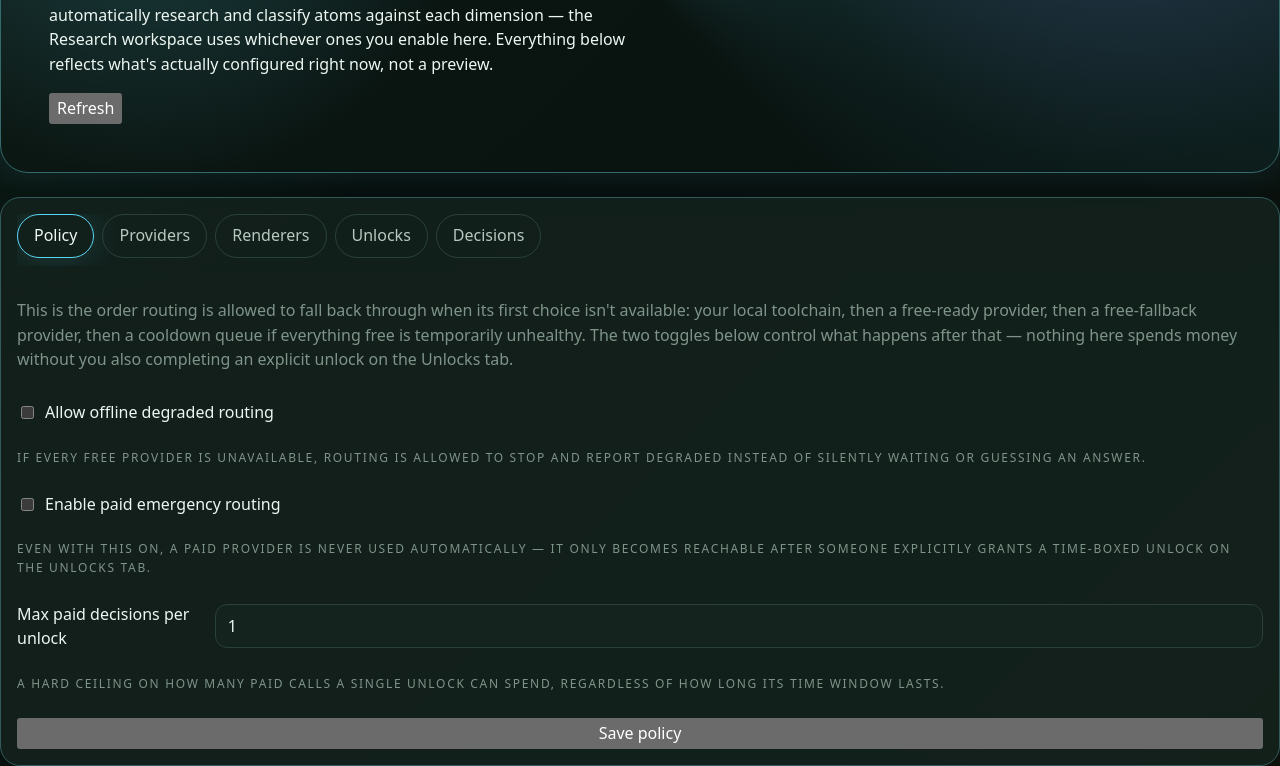
RoutingWorkspace › saves the routing policy with the loaded ETag and shows a conflict on stale write, without optimistic overwrite
(page scrolled)
Click the button "Save policy" at {"x": 640, "y": 733}, box [17,718,1263,749]
(page scrolled)
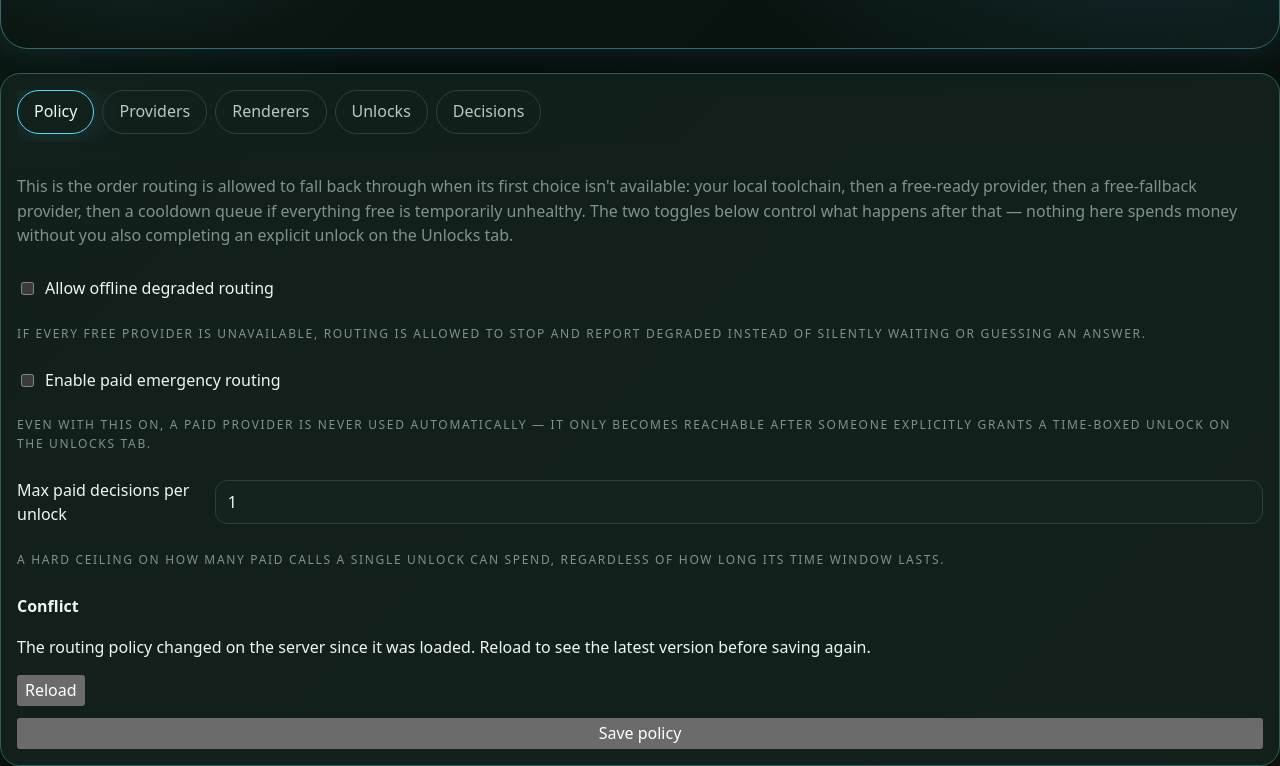
expect the text "Conflict" is shown: met, box [17,595,79,617]
expect the text "changed on the server since it was loaded" is shown: met, box [17,636,871,658]
